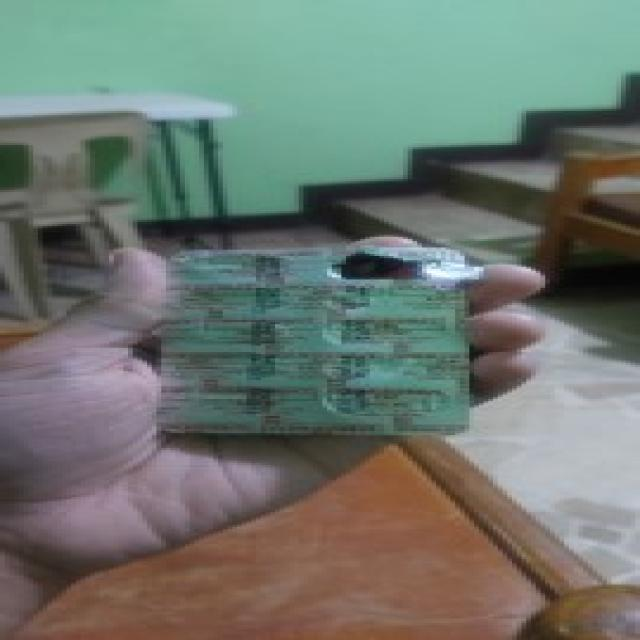Cacat: (163, 245, 460, 433)
Kemasan: (330, 254, 446, 283)
